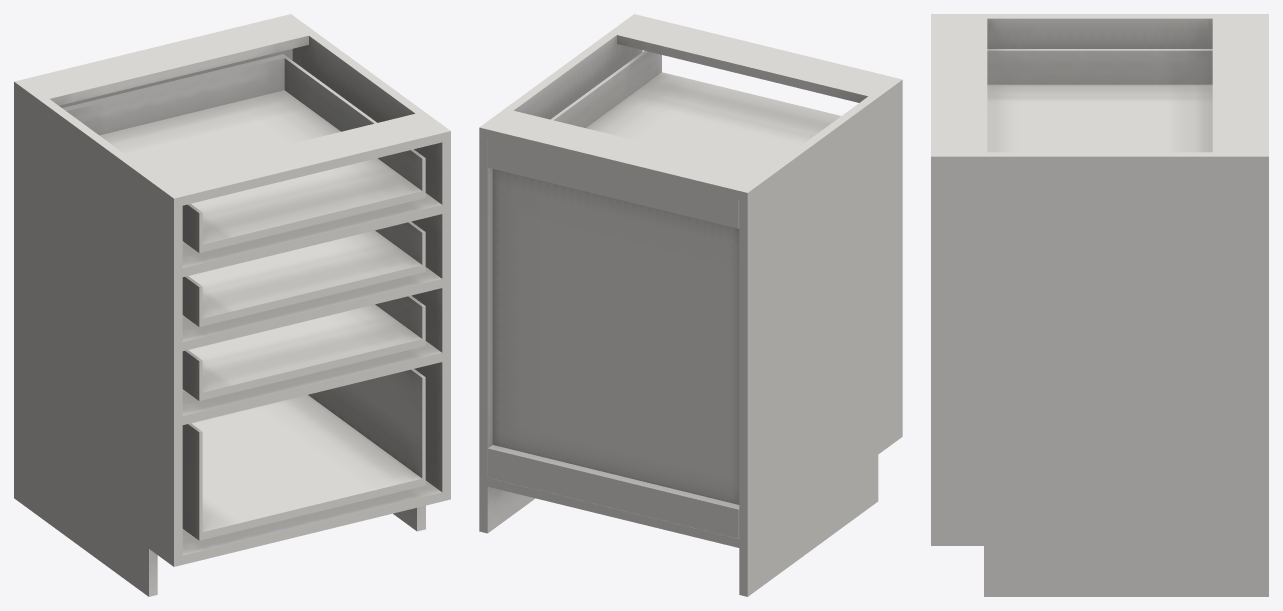
File: 4-drawer-bank-3-1-base-doors-off.glb
3 renders of one model, left to right at view 1: azimuth 30°, elevation 25°; view 2: azimuth 150°, elevation 25°; view 3: azimuth 270°, elevation 25°, orthographic. The views are drawn at different scales.
Visible parts, largest first — view 1: part_2, part_0; view 2: part_2, part_0; view 3: part_2, part_0.
Part boxes in pixels (x1,y1,x2,y2): part_2: (14, 14, 450, 596); part_0: (62, 54, 425, 540); part_2: (479, 14, 902, 596); part_0: (550, 50, 840, 171); part_2: (931, 14, 1268, 596); part_0: (987, 49, 1212, 152).
Size of the model in its own units: 0.6096 by 0.8763 by 0.6096.
Materials: 2 (1 with a texture image).
